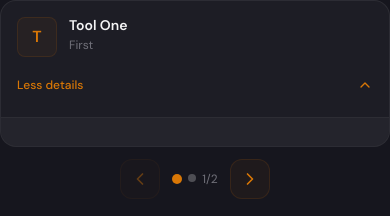
ToolCarousel › navigates to tool when dot is clicked
Check: the heading "Tool One" is shown, box [69, 16, 128, 34]
Click the button named "Go to tool 2": {"x": 192, "y": 178} [188, 174, 196, 182]
Wait 420 ms
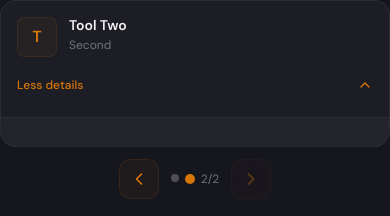
Check: the heading "Tool Two" is shown, box [69, 16, 127, 34]
